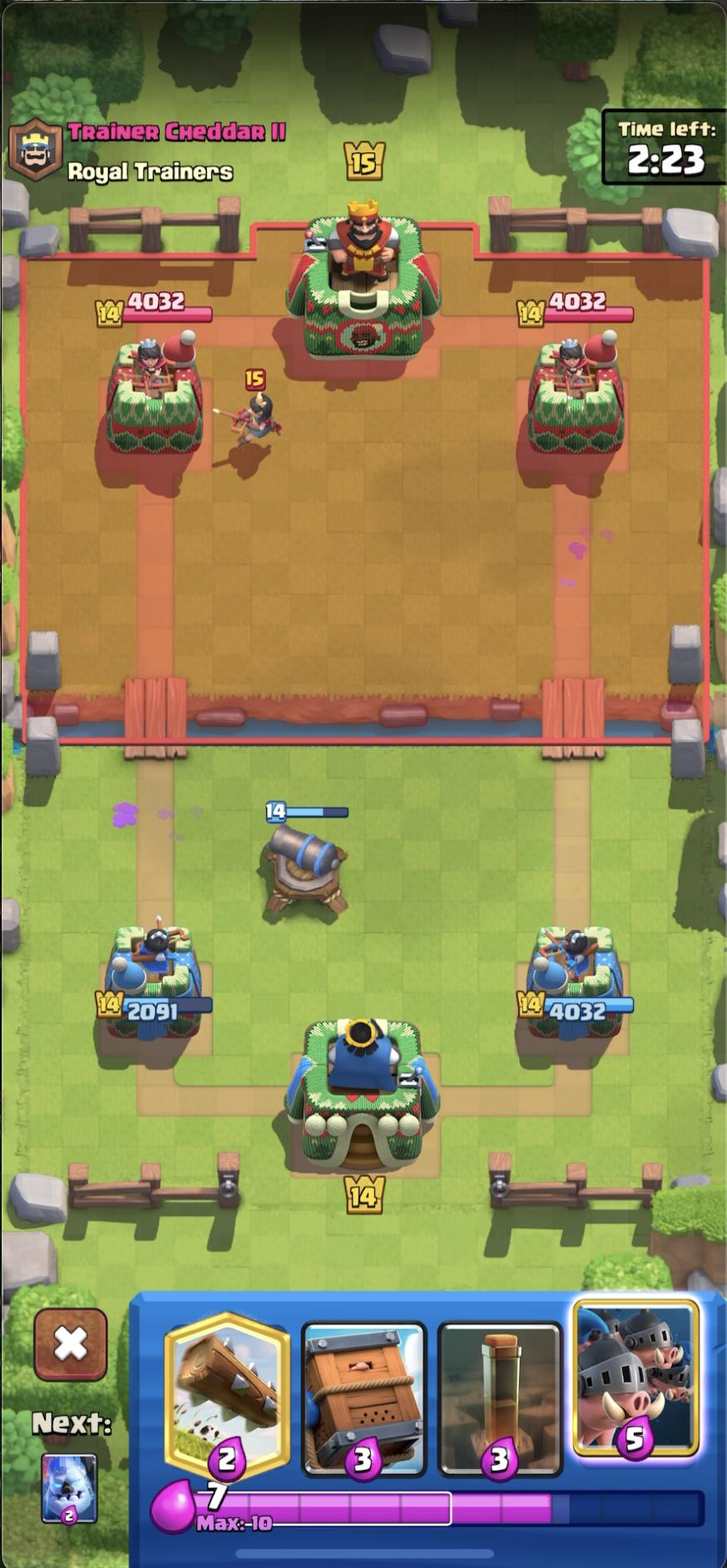card_earthquake: (435, 1318, 565, 1480)
card_icegolem: (40, 1452, 103, 1528)
card_log: (162, 1305, 304, 1485)
card_royaldelivery: (300, 1315, 431, 1486)
card_royalhogs: (566, 1292, 709, 1464)
elixir_bar_7: (139, 1479, 710, 1548)
